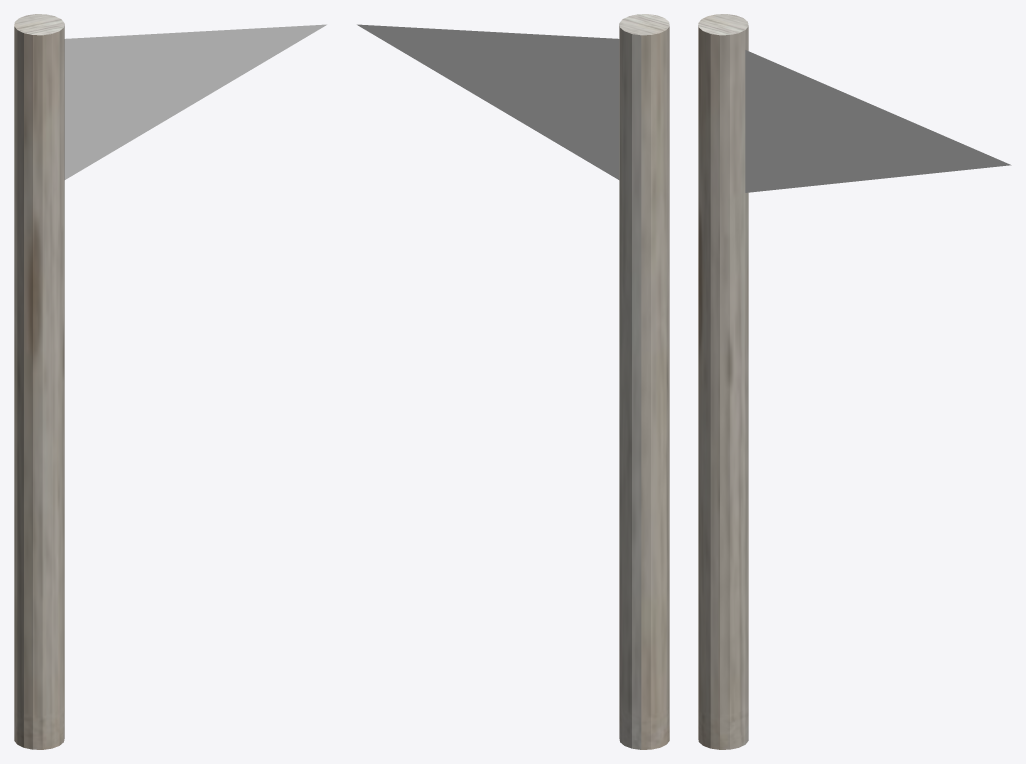
File: finish_flag.gltf
3 views of the same model, side by side, from view 1: azimuth 30°, elevation 25°; view 2: azimuth 150°, elevation 25°; view 3: azimuth 330°, elevation 25° (orthographic).
Visible parts, largest first — view 1: Cylinder, Plane; view 2: Cylinder, Plane; view 3: Cylinder, Plane.
Boxes of the visible parts, x1,y1,x2,y2 form: Cylinder: [14, 14, 64, 749]; Plane: [64, 24, 326, 179]; Cylinder: [619, 14, 669, 749]; Plane: [357, 24, 619, 179]; Cylinder: [698, 14, 748, 749]; Plane: [745, 50, 1011, 192].
Bounding box in the file's own units: 0.5897 × 1.3 × 0.0837.
2 materials, 1 textured.
